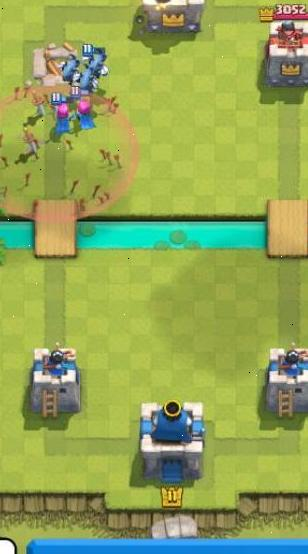enemy_arrows: (0, 74, 149, 223)
player_archers: (46, 92, 75, 135), (73, 90, 102, 130)
player_minions: (80, 43, 111, 82), (58, 50, 85, 84)
